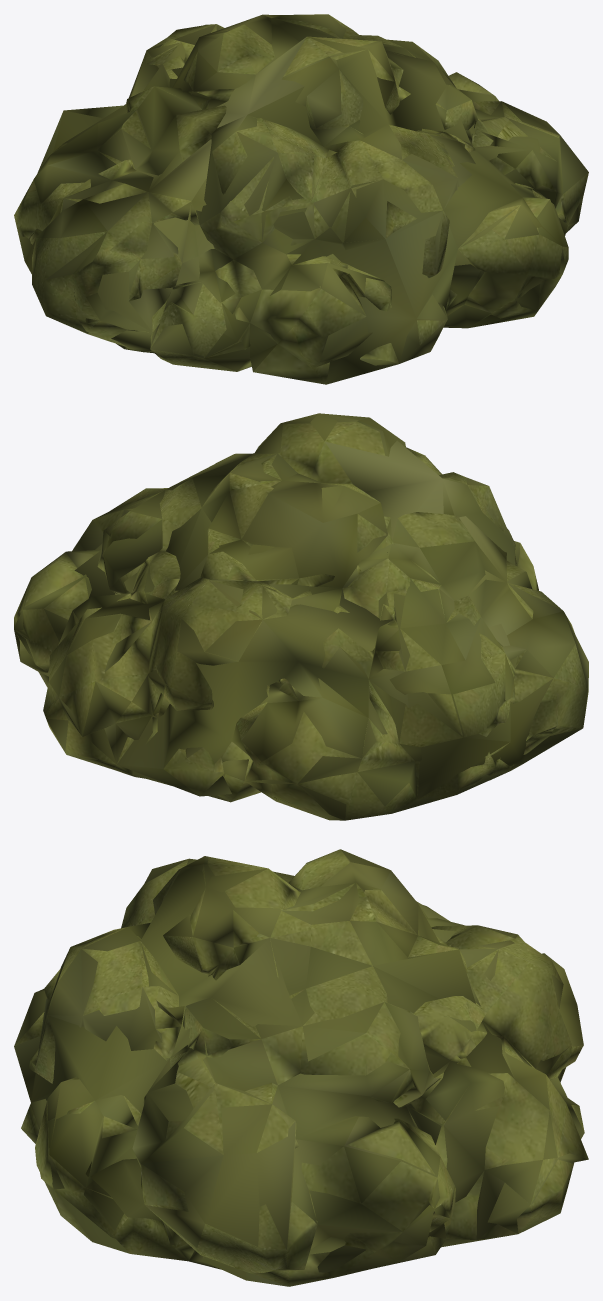
The model's file is matorral.glb.
3 renders of one model, top to bottom at view 1: azimuth 30°, elevation 25°; view 2: azimuth 150°, elevation 25°; view 3: azimuth 270°, elevation 25°, orthographic. The views are drawn at different scales.
Visible parts, largest first — view 1: cerca, medio, lejos; view 2: cerca, medio, lejos; view 3: cerca, medio, lejos.
Part boxes in pixels (x1,y1,x2,y2): cerca: (14,14,588,384); medio: (15,14,588,371); lejos: (14,19,567,384); cerca: (14,421,588,820); medio: (14,413,588,820); lejos: (38,413,582,799); cerca: (14,849,588,1286); medio: (14,850,588,1286); lejos: (14,849,584,1254).
Size of the model in its own units: 1.76 by 0.8356 by 1.46.
2 materials, 1 textured.
